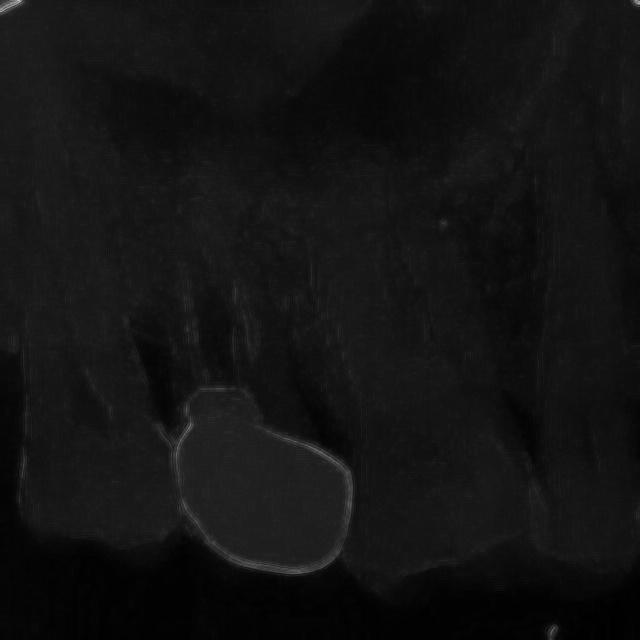Class 1- complete endodontic treatment: (125, 172, 383, 584)
